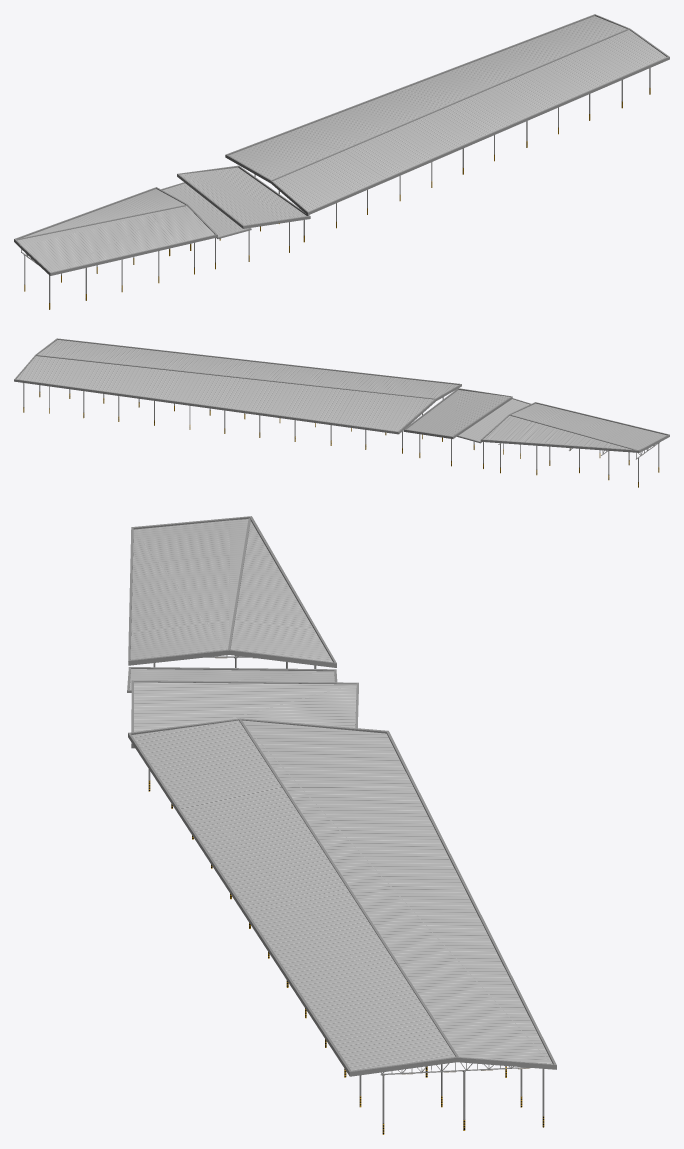
The model's file is CK-5he6haocangku01-JZ.FBX.
3 views of the same model, one above another, from view 1: azimuth 30°, elevation 25°; view 2: azimuth 150°, elevation 25°; view 3: azimuth 270°, elevation 25° (orthographic). The views are drawn at different scales.
Parts seen in each view (by area): view 1: CK-5he6haocangku01-JZ; view 2: CK-5he6haocangku01-JZ; view 3: CK-5he6haocangku01-JZ.
Part boxes in pixels (x1,y1,x2,y2): CK-5he6haocangku01-JZ: (14, 14, 669, 309); CK-5he6haocangku01-JZ: (14, 338, 669, 487); CK-5he6haocangku01-JZ: (127, 516, 556, 1134).
Size of the model in its own units: 105 by 7.36 by 35.14.
Materials: 4 (3 with a texture image).
